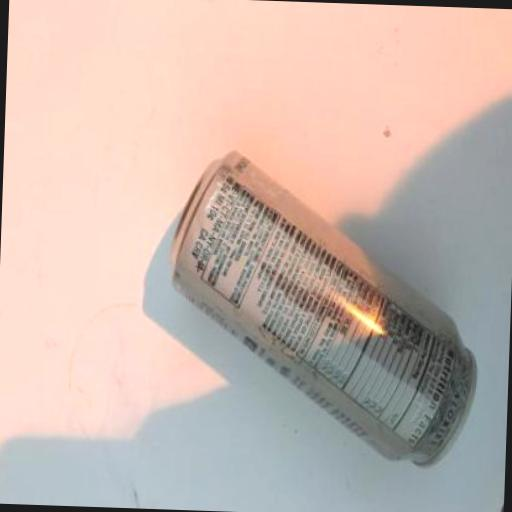metal: (163, 146, 484, 467)
